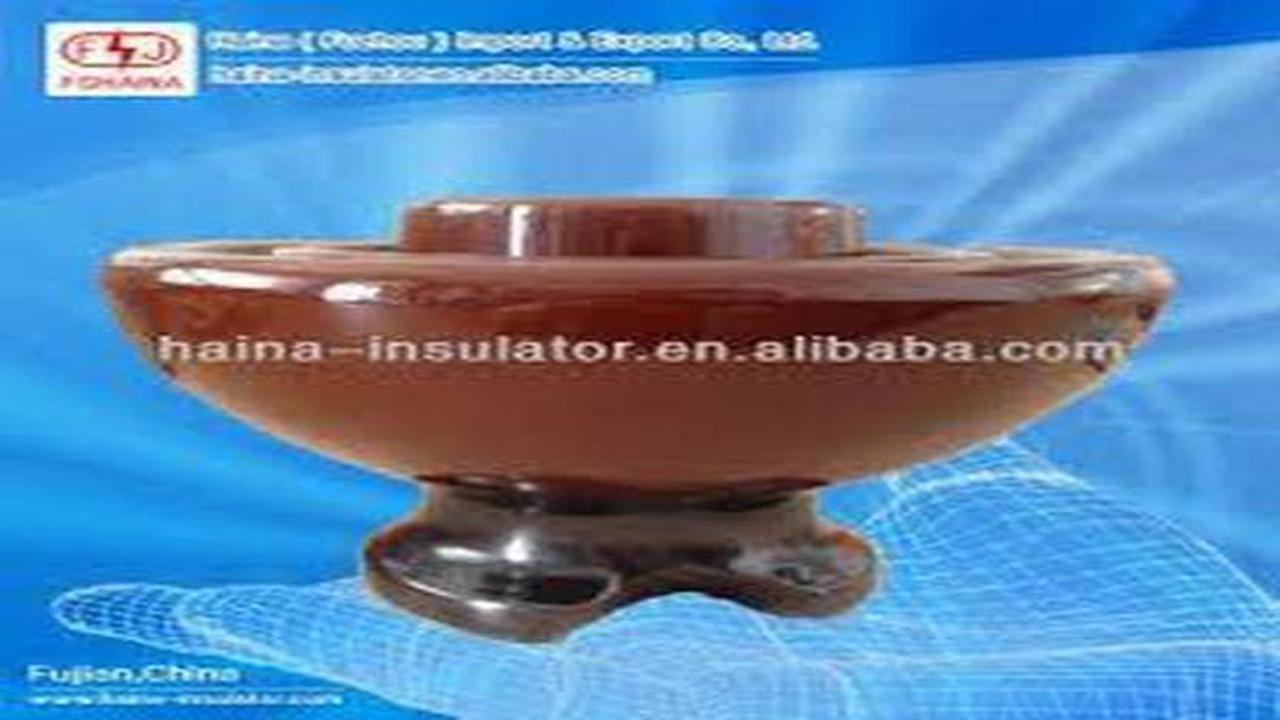insulator_pin: (96, 129, 1210, 651)
